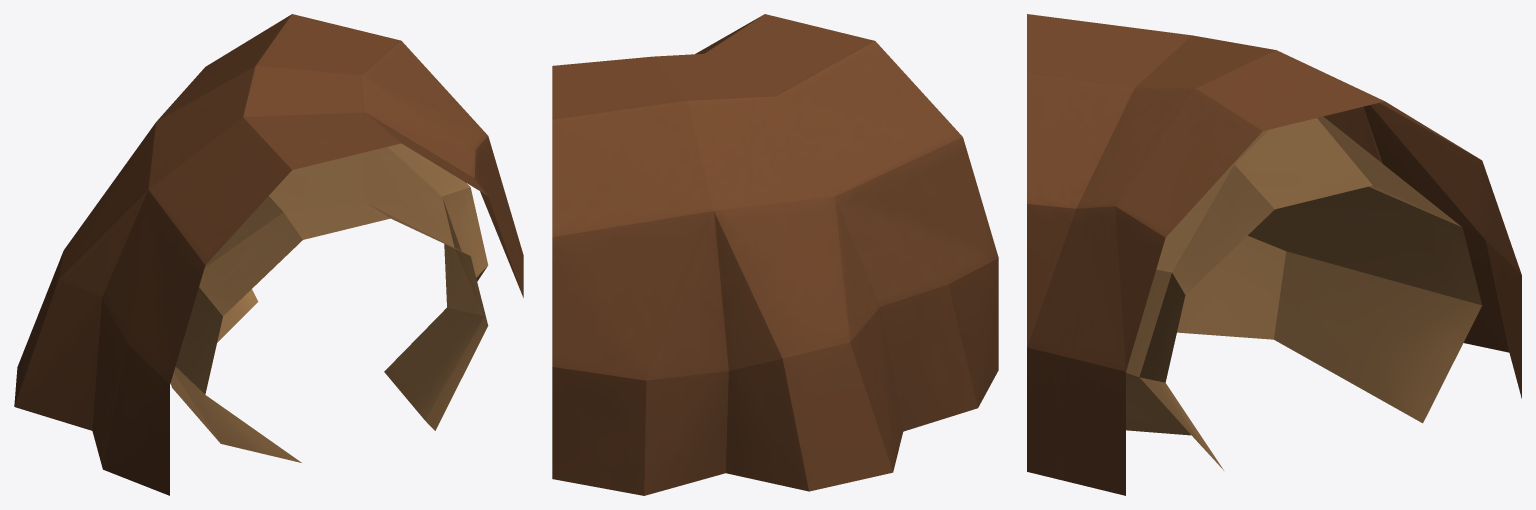
File: Tronc_Perce_L.FBX
3 views of the same model, side by side, from view 1: azimuth 30°, elevation 25°; view 2: azimuth 150°, elevation 25°; view 3: azimuth 270°, elevation 25° (orthographic). The views are drawn at different scales.
Visible parts, largest first — view 1: TroncPerce_L; view 2: TroncPerce_L; view 3: TroncPerce_L.
Part boxes in pixels (left/top/right/bottom): TroncPerce_L: left=14, top=14, right=523, bottom=495; TroncPerce_L: left=552, top=14, right=998, bottom=495; TroncPerce_L: left=1027, top=14, right=1521, bottom=495.
Size of the model in its own units: 2.39 by 1.62 by 2.17.
